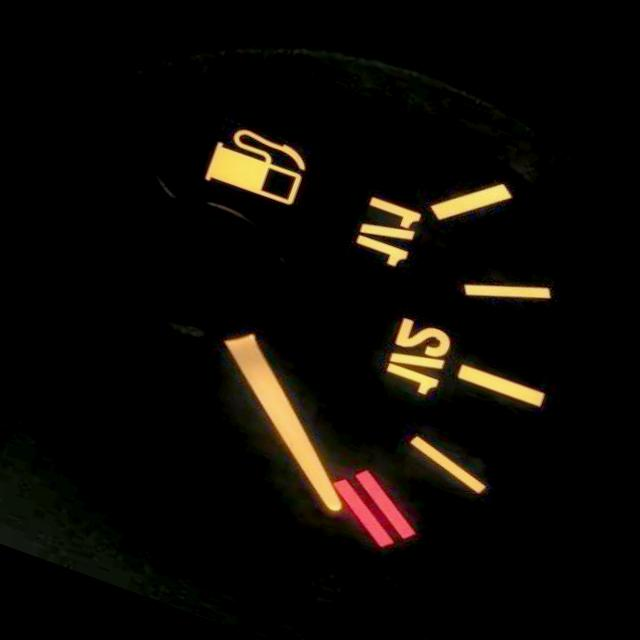kontrolka: (188, 112, 327, 227)
